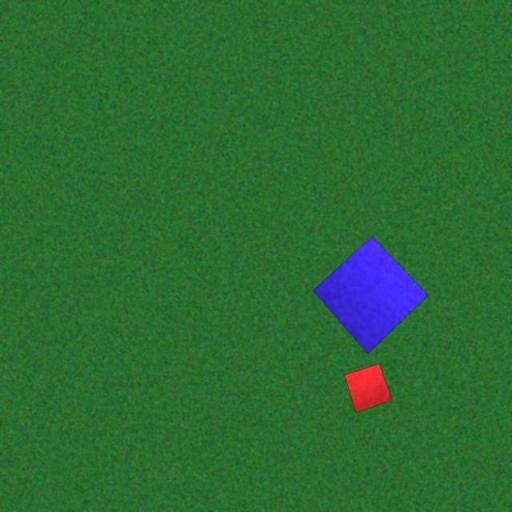BLUE_SQUARE: (313, 236, 429, 354)
RED_SQUARE: (344, 363, 394, 414)
